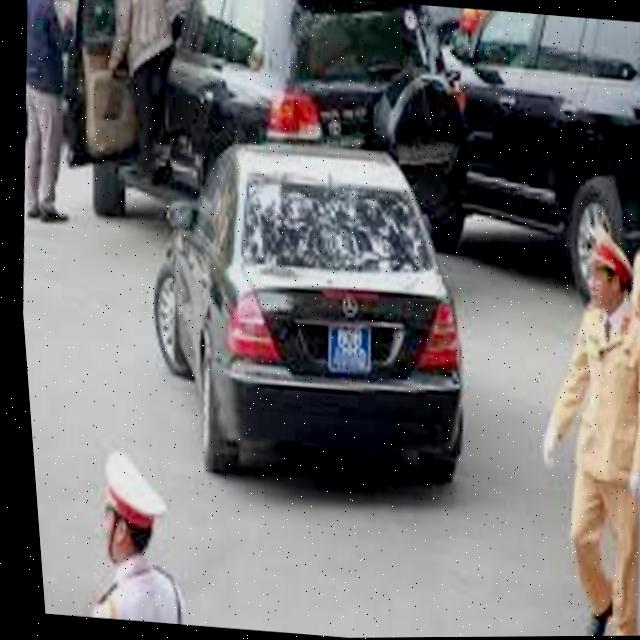car: (118, 133, 495, 501), (55, 0, 490, 251), (427, 5, 640, 294)
plate: (312, 316, 389, 381)
